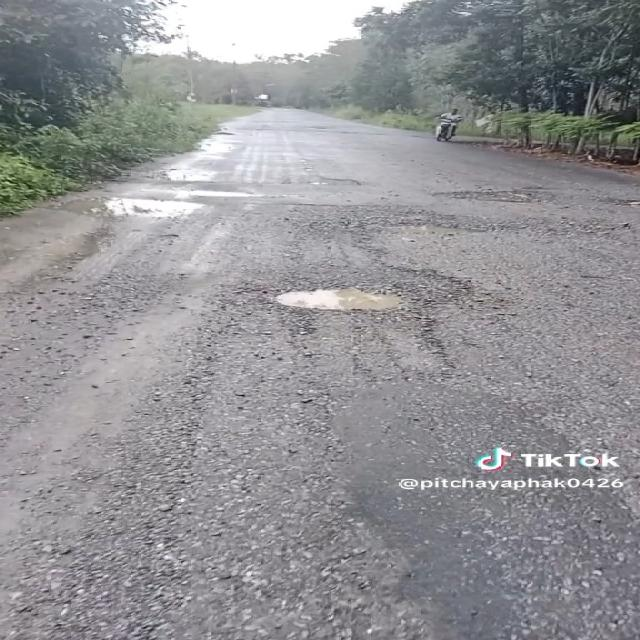Poth-hole: (302, 193, 526, 260)
